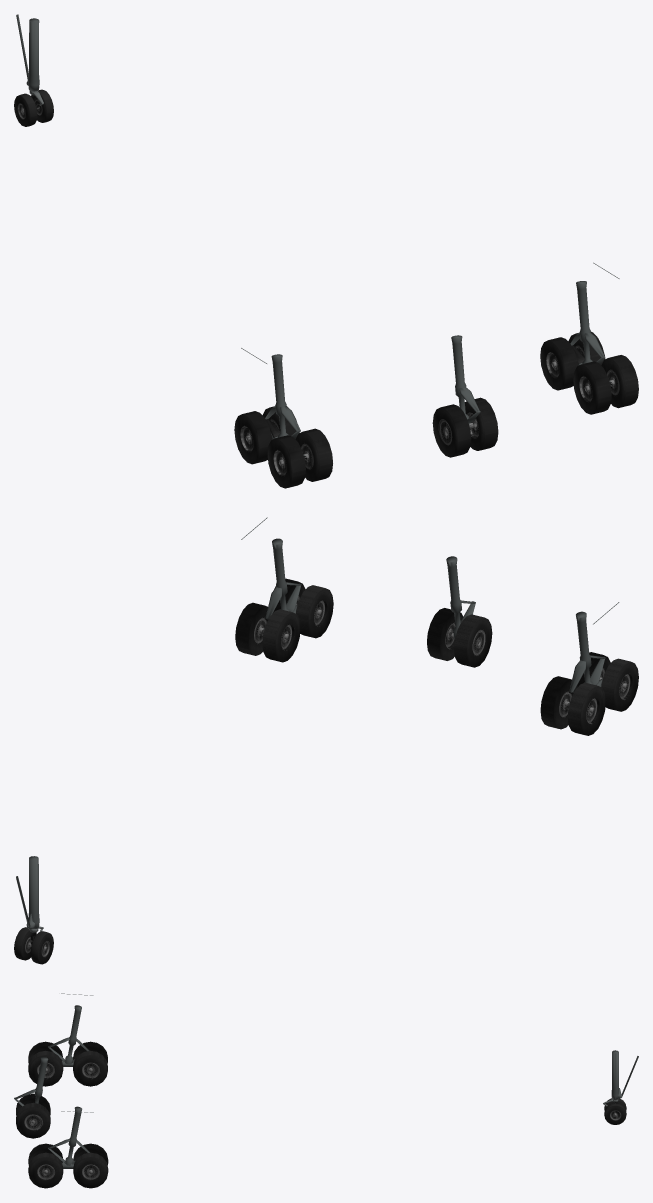
The picture shows the model from 3 angles, top to bottom: view 1: azimuth 30°, elevation 25°; view 2: azimuth 150°, elevation 25°; view 3: azimuth 270°, elevation 25°; orthographic projection. The views are drawn at different scales.
Parts seen in each view (by area): view 1: _Black_.004, _Black_.008, _Black_.012, _Black_.011, _Black_.005, left_gear, _Black_.009, _Black_.007, right_gear, nose_gear, _Black_.001, _Black_ (+1 smaller); view 2: _Black_.004, _Black_.005, _Black_.011, _Black_.008, _Black_.012, left_gear, right_gear, _Black_.010, _Black_.006, _Black_.001, _Black_, nose_gear (+1 smaller); view 3: _Black_.009, _Black_.010, _Black_.006, _Black_.001, _Black_.007, right_gear, left_gear, nose_gear, _Black_, mid_gear, _Black_.011, _Black_.005 (+1 smaller).
Part boxes in pixels (<box>): _Black_.004: <box>432,404,471,457</box>; _Black_.008: <box>267,435,305,488</box>; _Black_.012: <box>573,361,611,414</box>; _Black_.011: <box>540,337,577,390</box>; _Black_.005: <box>234,411,272,464</box>; left_gear: <box>265,354,307,462</box>; _Black_.009: <box>601,355,638,408</box>; _Black_.007: <box>295,428,332,481</box>; right_gear: <box>570,281,612,388</box>; nose_gear: <box>16,14,43,108</box>; _Black_.001: <box>465,397,498,450</box>; _Black_: <box>14,89,53,126</box>; _Black_.004: <box>454,614,492,667</box>; _Black_.005: <box>567,682,605,735</box>; _Black_.011: <box>262,609,300,662</box>; _Black_.008: <box>601,658,638,711</box>; _Black_.012: <box>296,585,333,638</box>; left_gear: <box>566,611,605,709</box>; right_gear: <box>261,538,301,636</box>; _Black_.010: <box>235,602,267,655</box>; _Black_.006: <box>540,676,577,729</box>; _Black_.001: <box>427,608,463,660</box>; _Black_: <box>14,927,53,964</box>; nose_gear: <box>16,856,43,946</box>; _Black_.009: <box>28,1152,63,1188</box>; _Black_.010: <box>73,1152,108,1188</box>; _Black_.006: <box>73,1050,107,1086</box>; _Black_.001: <box>16,1102,50,1138</box>; _Black_.007: <box>28,1050,63,1086</box>; right_gear: <box>48,1106,89,1168</box>; left_gear: <box>48,1005,89,1066</box>; nose_gear: <box>603,1050,638,1106</box>; _Black_: <box>604,1098,626,1124</box>; mid_gear: <box>14,1057,48,1106</box>; _Black_.011: <box>73,1143,108,1165</box>; _Black_.005: <box>73,1041,107,1063</box>.
Size of the model in its own units: 12.72 by 4.04 by 28.75.
Materials: 1 (1 with a texture image).
